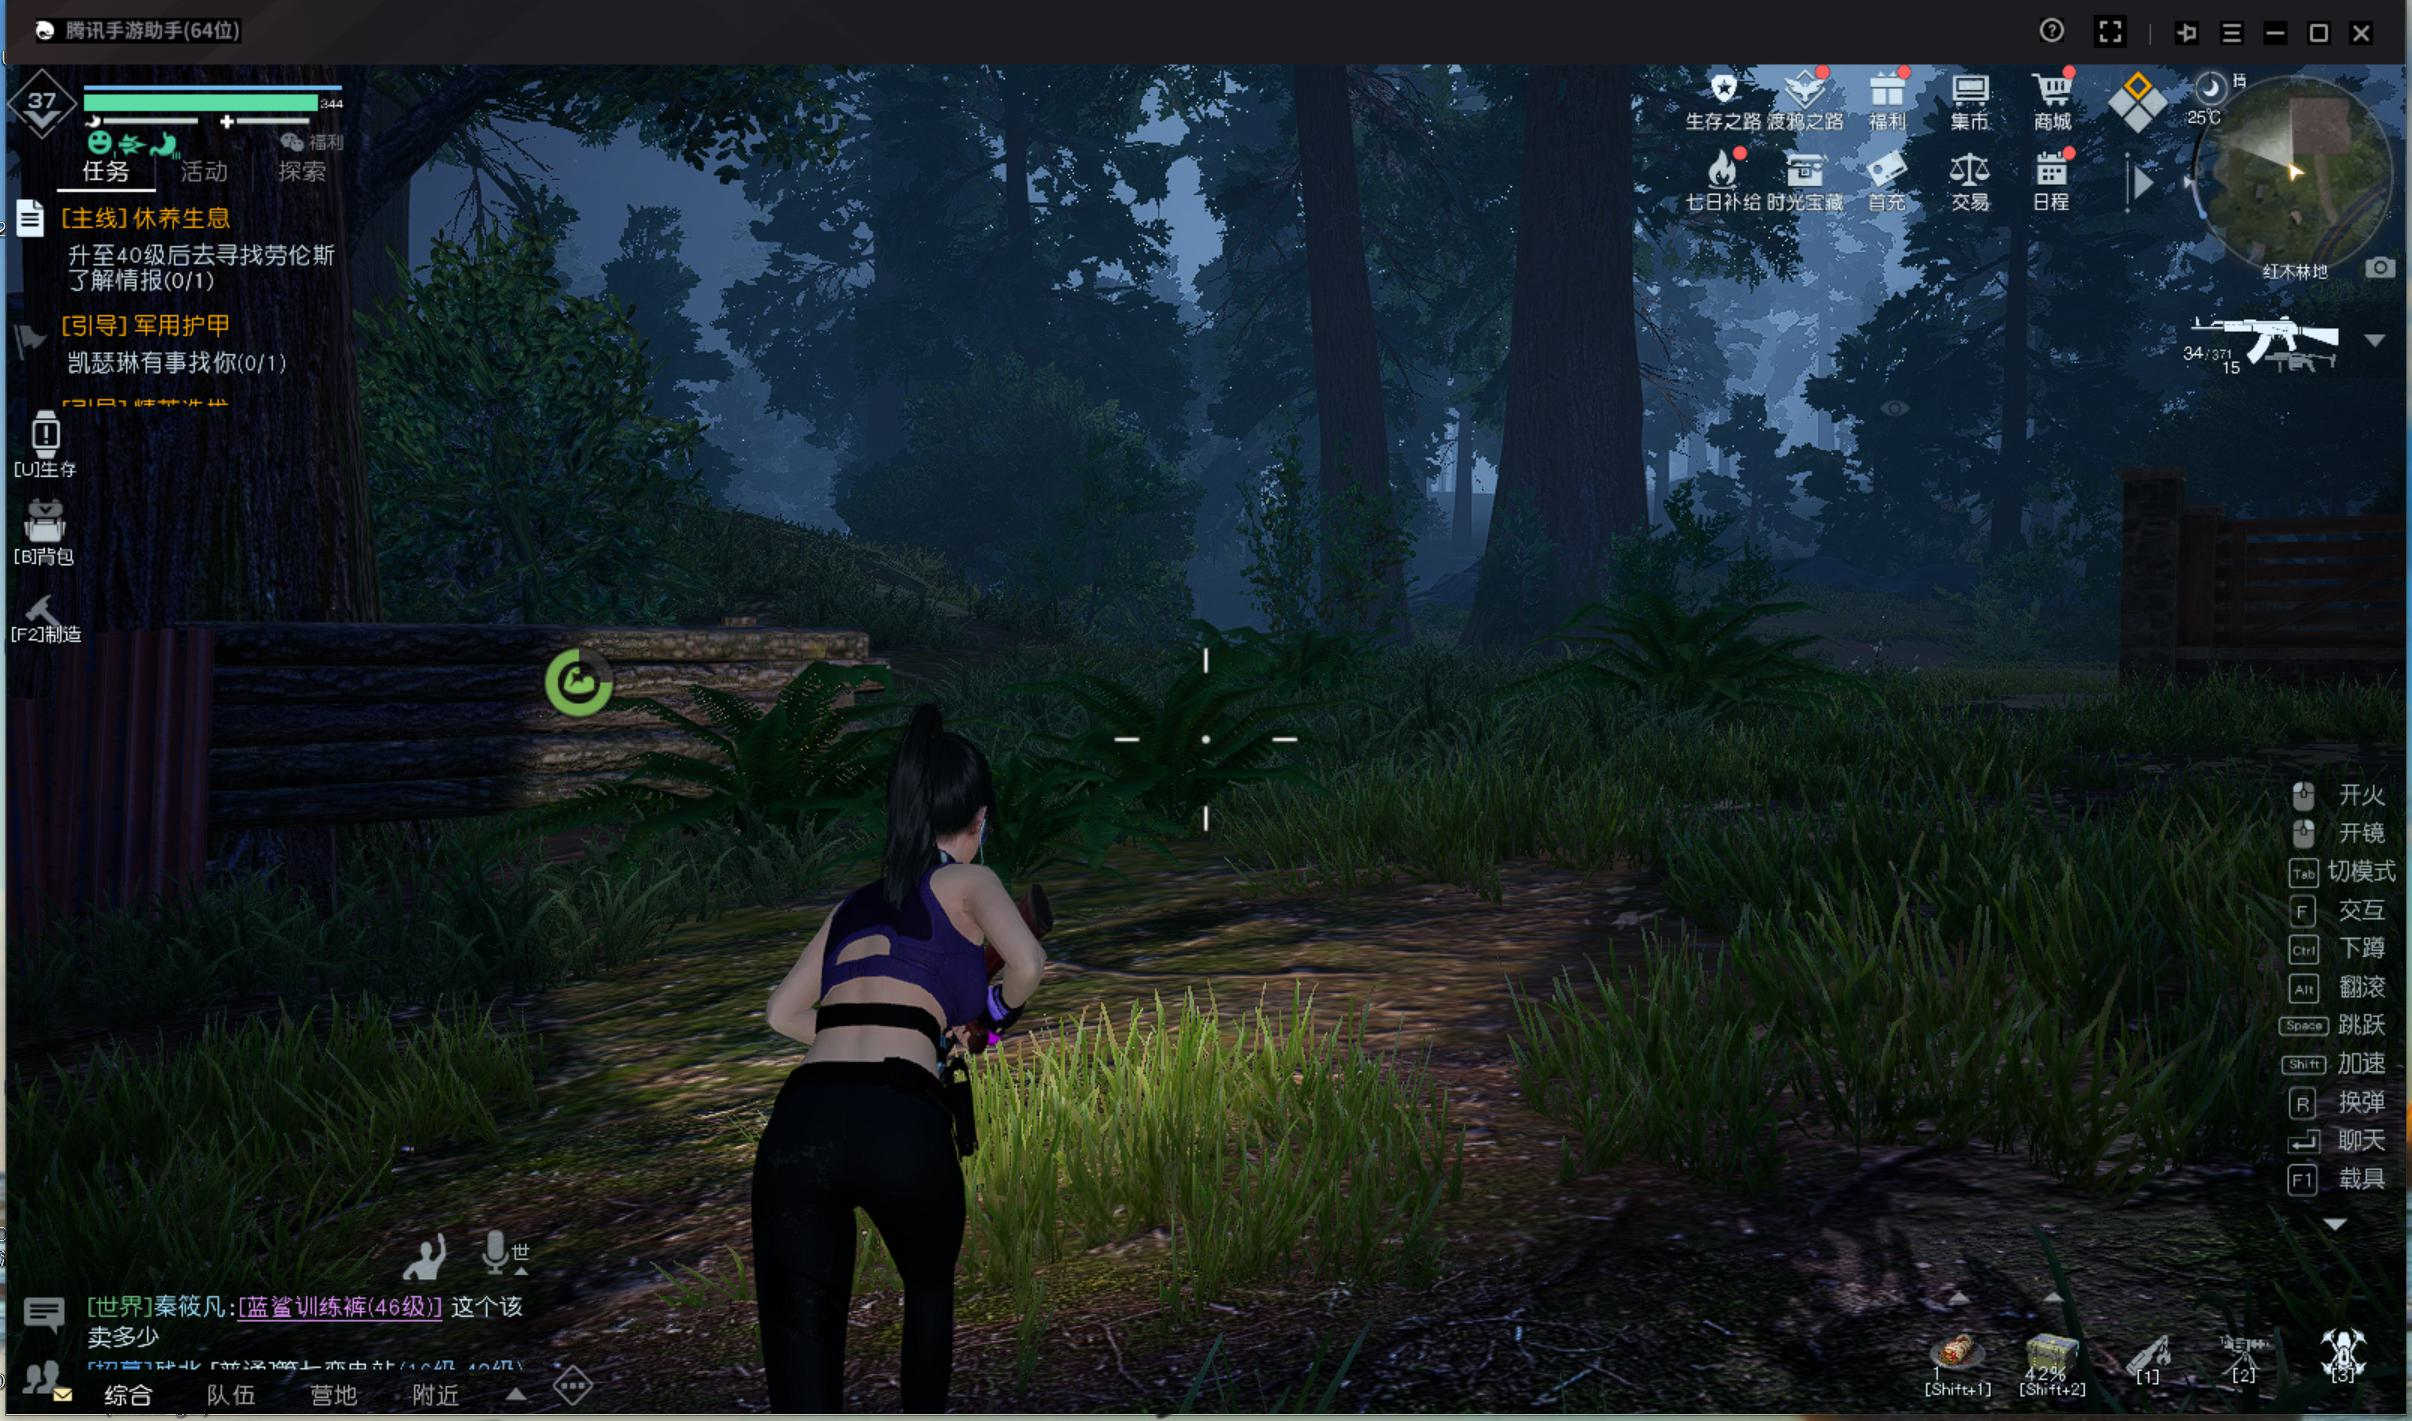tree: (1472, 315, 1673, 677), (1285, 179, 1411, 675)
